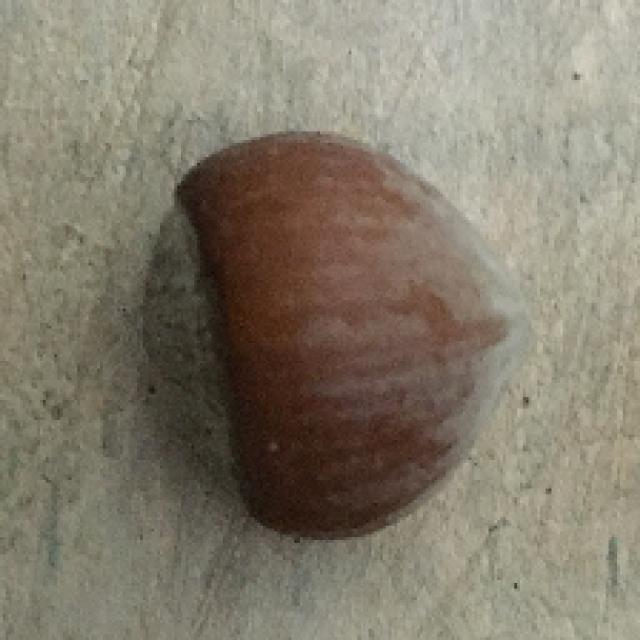qualityHazelnut: (130, 132, 530, 534)
